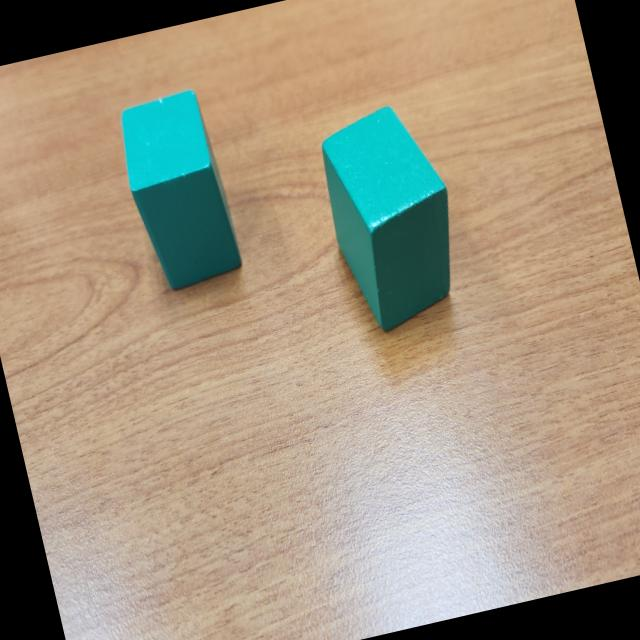green: (308, 94, 476, 338), (110, 85, 247, 296)
